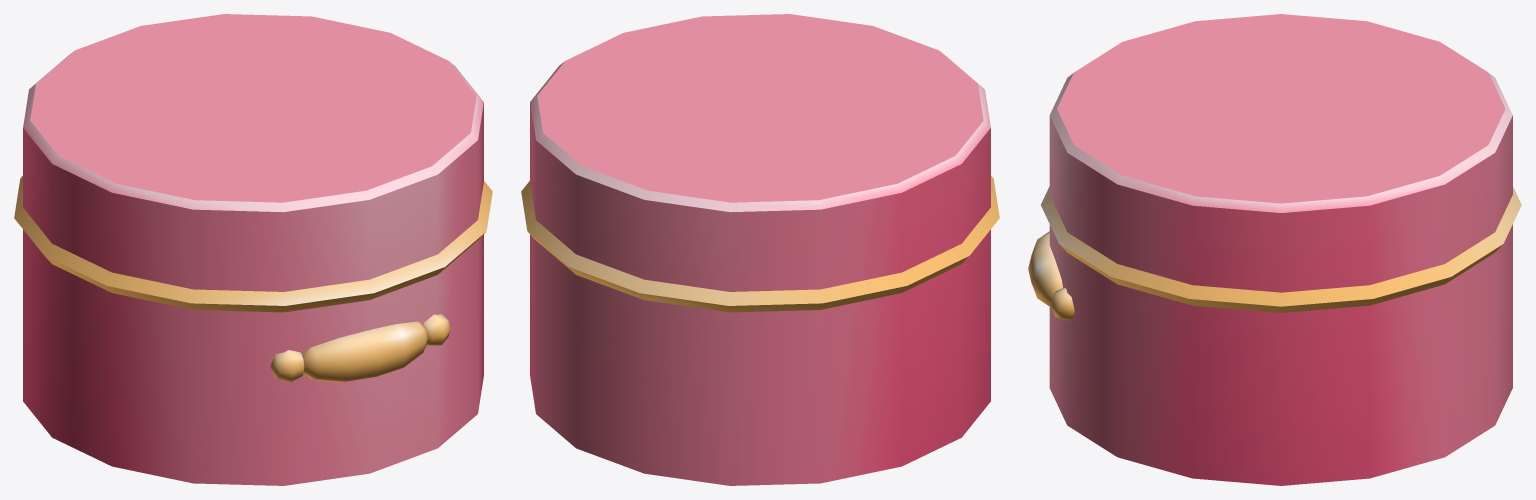
The model's file is Dol_OB_GiftBox_2.fbx.
3 views of the same model, side by side, from view 1: azimuth 30°, elevation 25°; view 2: azimuth 150°, elevation 25°; view 3: azimuth 270°, elevation 25° (orthographic).
Parts seen in each view (by area): view 1: Doll_OB_GifBox_2; view 2: Doll_OB_GifBox_2; view 3: Doll_OB_GifBox_2.
Part boxes in pixels (x1,y1,x2,y2): Doll_OB_GifBox_2: (14,14,492,485); Doll_OB_GifBox_2: (521,14,999,485); Doll_OB_GifBox_2: (1028,14,1521,485).
Size of the model in its own units: 15.25 by 9.77 by 15.65.
Materials: 1 (1 with a texture image).
